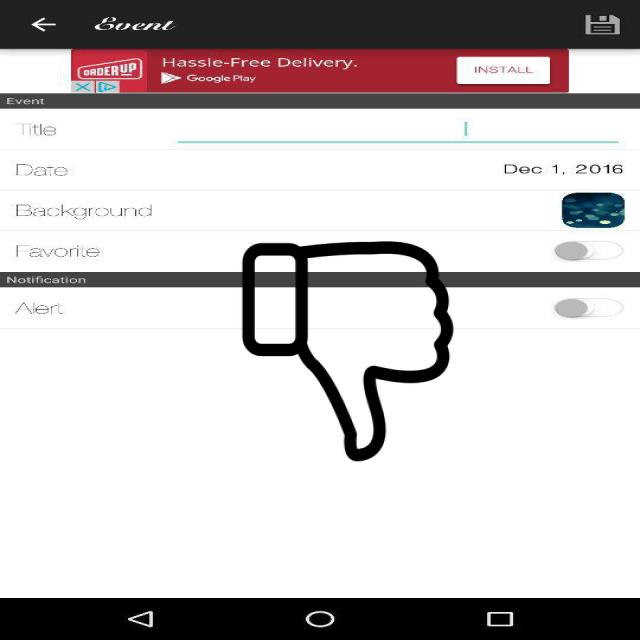obstruction: (239, 242, 456, 462)
